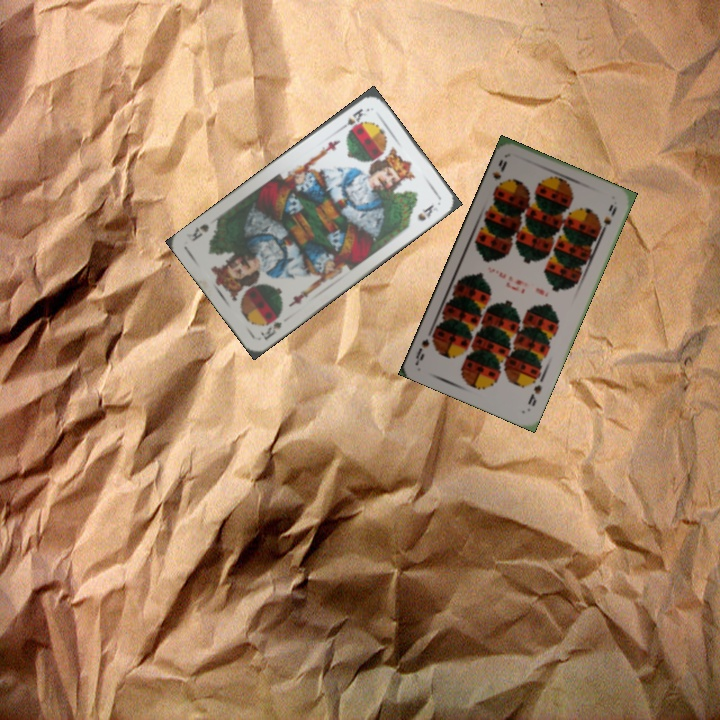S9: (488, 155, 510, 193), (524, 381, 544, 409)
SK: (335, 104, 369, 133), (256, 311, 285, 343)
